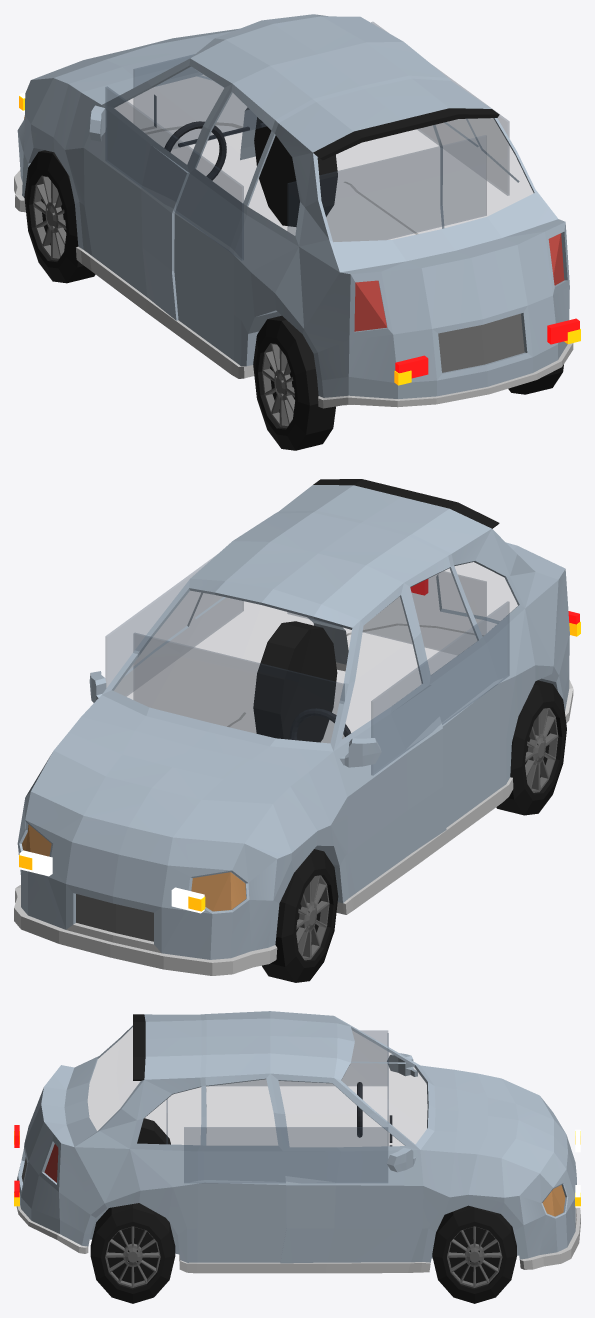
The model's file is compact.glb.
3 renders of one model, top to bottom at view 1: azimuth 30°, elevation 25°; view 2: azimuth 150°, elevation 25°; view 3: azimuth 270°, elevation 25°, orthographic. The views are drawn at different scales.
Parts seen in each view (by area): view 1: BODY, GLASS_REAR, GLASS_LEFT, SOURCE_WHEEL_REAR, SOURCE_WHEEL_FL, GLASS_FRONT, SOURCE_WHEEL_FR, GLASS_RIGHT, STEERING_WHEEL_RIM, BRAKE_R; view 2: BODY, GLASS_FRONT, SOURCE_WHEEL_REAR, GLASS_LEFT, SOURCE_WHEEL_FL, GLASS_RIGHT, GLASS_REAR; view 3: BODY, GLASS_RIGHT, SOURCE_WHEEL_REAR, SOURCE_WHEEL_FR, GLASS_LEFT.
Part boxes in pixels (x1,y1,x2,y2): BODY: (14, 14, 573, 408); GLASS_REAR: (287, 135, 486, 241); GLASS_LEFT: (105, 86, 243, 260); SOURCE_WHEEL_REAR: (253, 315, 563, 450); SOURCE_WHEEL_FL: (24, 150, 95, 283); GLASS_FRONT: (133, 54, 266, 145); SOURCE_WHEEL_FR: (254, 117, 337, 226); GLASS_RIGHT: (371, 22, 509, 195); STEERING_WHEEL_RIM: (164, 121, 226, 180); BRAKE_R: (547, 318, 579, 344); BODY: (14, 479, 573, 975); GLASS_FRONT: (133, 633, 344, 742); SOURCE_WHEEL_REAR: (253, 621, 566, 815); GLASS_LEFT: (371, 601, 509, 775); SOURCE_WHEEL_FL: (262, 849, 338, 982); GLASS_RIGHT: (105, 556, 243, 696); GLASS_REAR: (287, 571, 486, 650); BODY: (14, 1011, 580, 1273); GLASS_RIGHT: (184, 1127, 387, 1182); SOURCE_WHEEL_REAR: (90, 1118, 175, 1303); SOURCE_WHEEL_FR: (432, 1205, 516, 1303); GLASS_LEFT: (215, 1030, 387, 1085).
Size of the model in its own units: 1.6 by 1.55 by 3.6.
